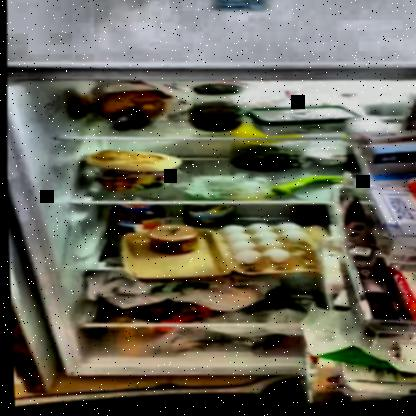cream_cheese: (248, 106, 349, 138)
eggs: (224, 223, 299, 266)
green_chillies: (267, 175, 341, 201)
olives: (228, 146, 302, 175)
red_onion: (109, 110, 147, 131)
